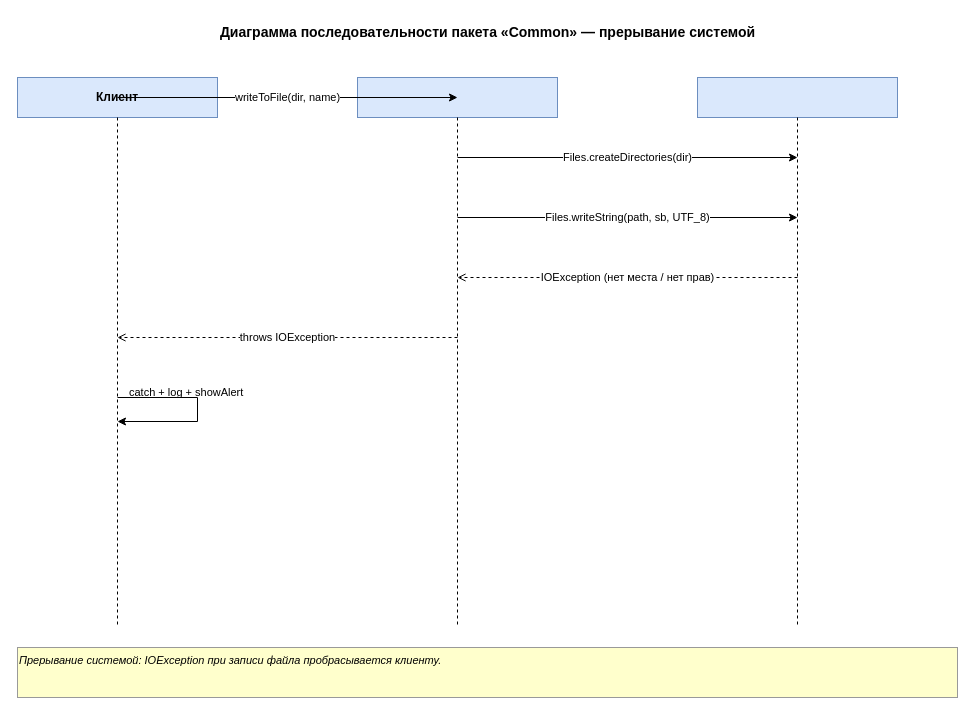
This 975x715 diagram has some shape labels left out. The box of each missing label's shape, as (x1, y1, x2, y2) in pixels:
Files (NIO): (696, 76, 898, 118)
JavaFileWriter: (356, 76, 558, 118)
